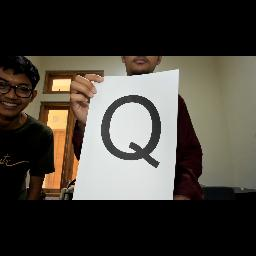q: (96, 88, 172, 174)
